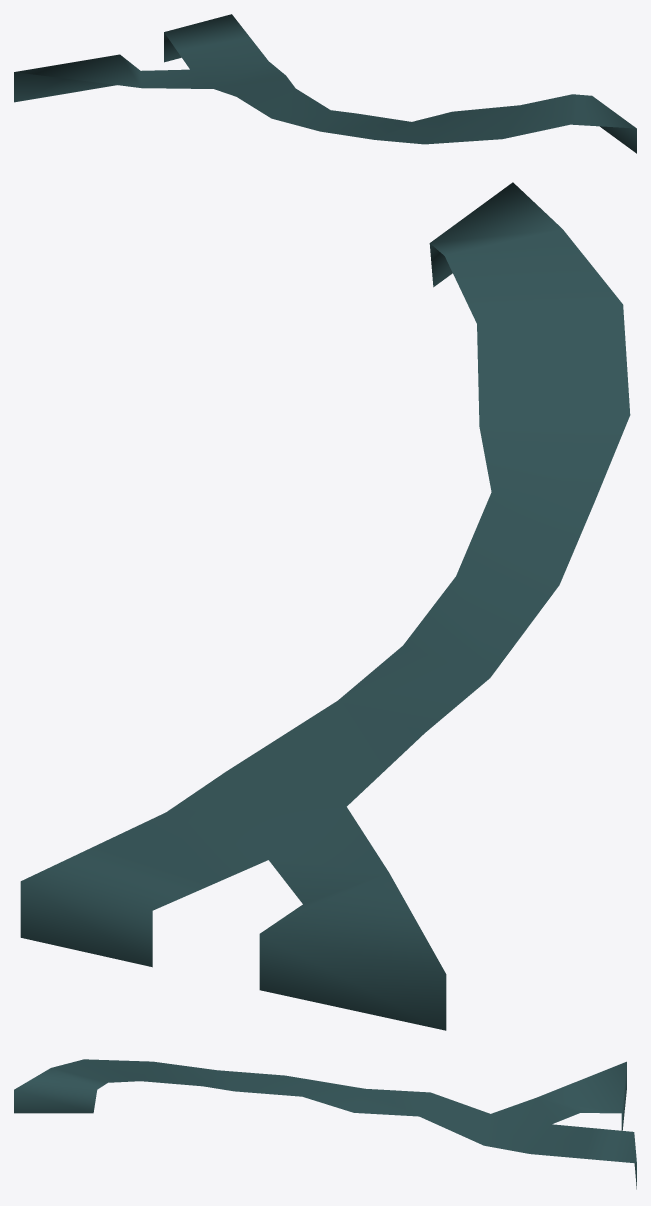
The model's file is galtelli_small_river.dae.
The picture shows the model from 3 angles, top to bottom: view 1: azimuth 30°, elevation 25°; view 2: azimuth 150°, elevation 25°; view 3: azimuth 270°, elevation 25°; orthographic projection. The views are drawn at different scales.
Parts seen in each view (by area): view 1: Plane_009; view 2: Plane_009; view 3: Plane_009.
Boxes of the visible parts, box(x1,y1,x2,y2) form: Plane_009: box(14, 14, 636, 153); Plane_009: box(20, 182, 630, 1030); Plane_009: box(14, 1059, 636, 1189).
Size of the model in its own units: 79.8 by 158 by 38.82.
